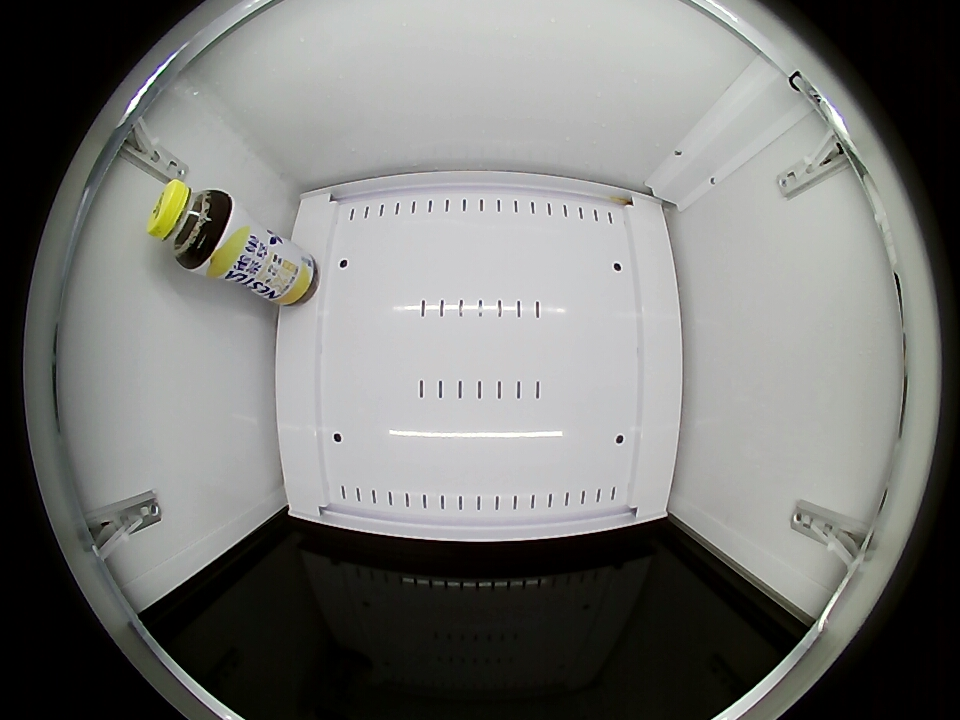chacui: (147, 180, 233, 271)
